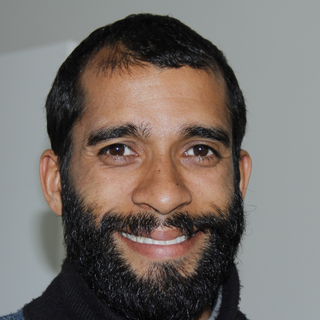eye: (94, 139, 141, 164), (179, 139, 224, 165)
